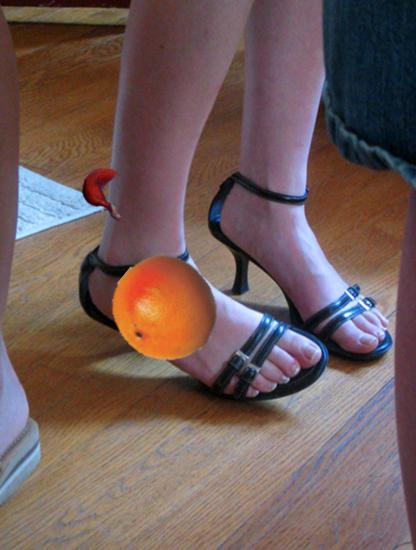Banana: (78, 167, 130, 219)
Grapefruit: (112, 255, 219, 362)
